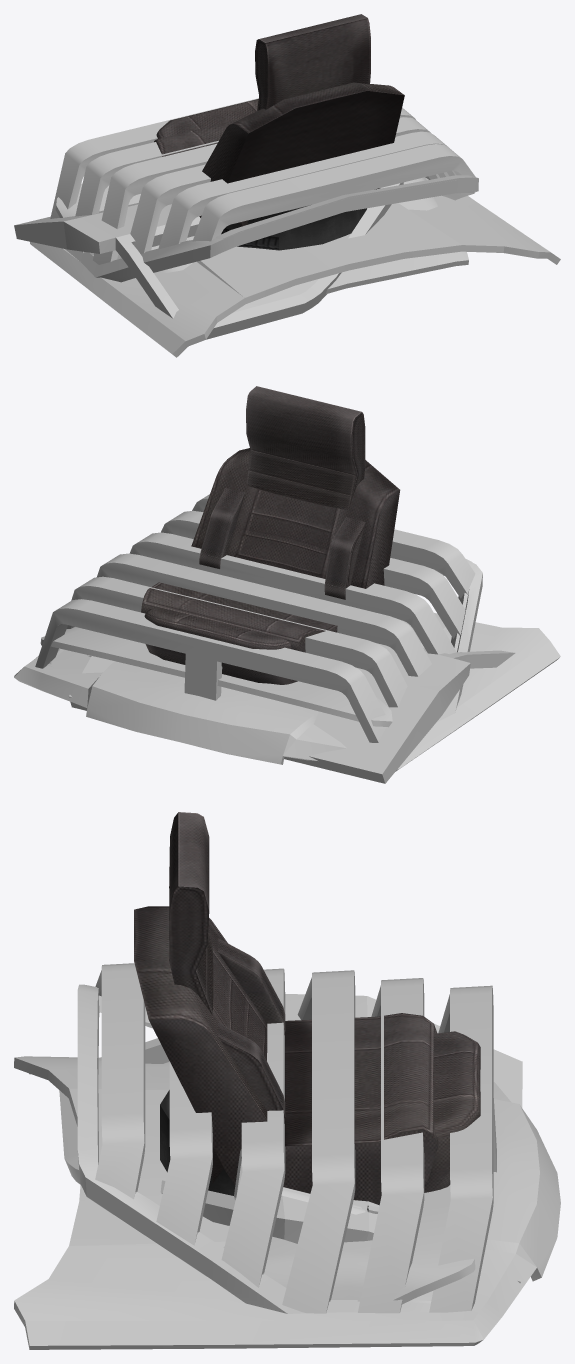
The model's file is Vehicles_fuego_models.fbx.
3 views of the same model, one above another, from view 1: azimuth 30°, elevation 25°; view 2: azimuth 150°, elevation 25°; view 3: azimuth 270°, elevation 25° (orthographic). The views are drawn at different scales.
Parts seen in each view (by area): view 1: TrunkTuning_mesh, Hood_mesh, SeatRearLeft_mesh, SeatFrontLeft_mesh, DoorFrontLeft_mesh, Trunk_mesh, RearWindshield_mesh, WheelSport_mesh; view 2: TrunkTuning_mesh, Hood_mesh, SeatFrontLeft_mesh, SeatRearLeft_mesh, DoorFrontLeft_mesh, RearWindshield_mesh, Trunk_mesh; view 3: TrunkTuning_mesh, Hood_mesh, SeatRearLeft_mesh, SeatFrontLeft_mesh, DoorFrontLeft_mesh, RearWindshield_mesh, WheelSport_mesh.
Boxes of the visible parts, bbox=[...] form: TrunkTuning_mesh: bbox=[50, 98, 478, 264]; Hood_mesh: bbox=[30, 177, 560, 357]; SeatRearLeft_mesh: bbox=[154, 82, 404, 217]; SeatFrontLeft_mesh: bbox=[156, 14, 370, 226]; DoorFrontLeft_mesh: bbox=[14, 182, 403, 339]; Trunk_mesh: bbox=[65, 176, 474, 282]; RearWindshield_mesh: bbox=[55, 177, 468, 312]; WheelSport_mesh: bbox=[225, 205, 366, 250]; TrunkTuning_mesh: bbox=[35, 494, 475, 742]; Hood_mesh: bbox=[14, 613, 560, 771]; SeatFrontLeft_mesh: bbox=[144, 386, 365, 684]; SeatRearLeft_mesh: bbox=[141, 448, 400, 652]; DoorFrontLeft_mesh: bbox=[69, 643, 515, 783]; RearWindshield_mesh: bbox=[40, 627, 392, 727]; Trunk_mesh: bbox=[49, 563, 482, 722]; TrunkTuning_mesh: bbox=[77, 963, 496, 1313]; Hood_mesh: bbox=[14, 1056, 560, 1349]; SeatRearLeft_mesh: bbox=[134, 906, 438, 1205]; SeatFrontLeft_mesh: bbox=[169, 812, 480, 1192]; DoorFrontLeft_mesh: bbox=[59, 994, 522, 1283]; RearWindshield_mesh: bbox=[223, 1185, 475, 1304]; WheelSport_mesh: bbox=[160, 1090, 235, 1195].
Bounding box in the file's own units: 1.53 × 0.9245 × 1.25.
